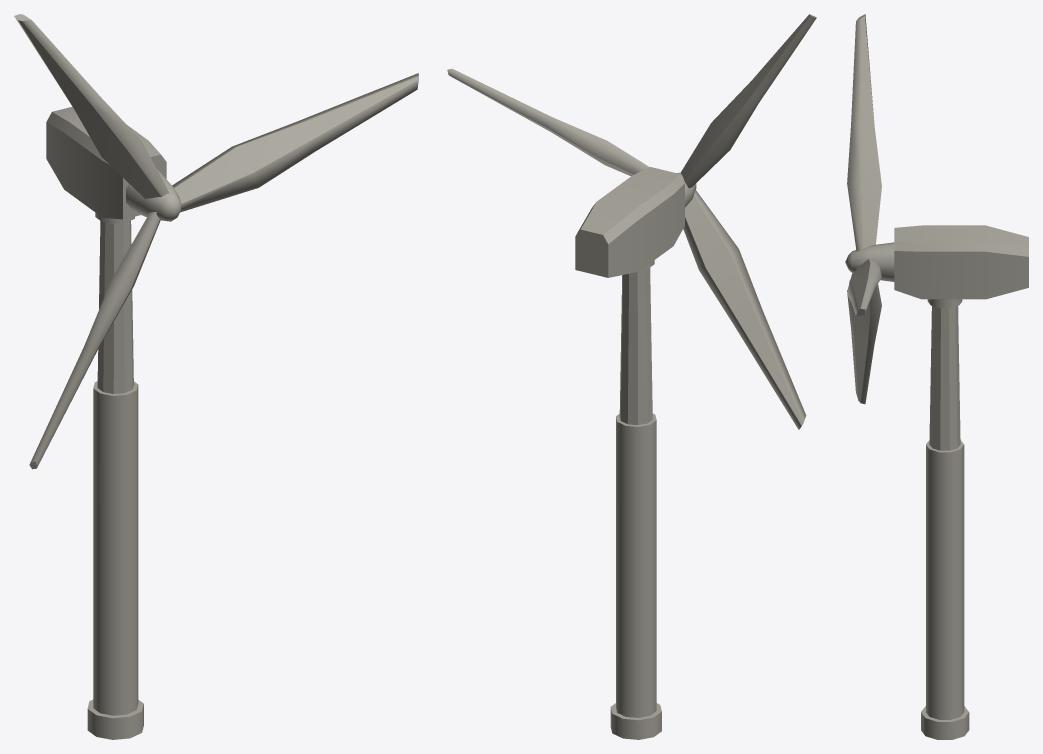
File: WindPower.fbx
3 renders of one model, left to right at view 1: azimuth 30°, elevation 25°; view 2: azimuth 150°, elevation 25°; view 3: azimuth 270°, elevation 25°, orthographic. The views are drawn at different scales.
Parts seen in each view (by area): view 1: WindPower, Spin; view 2: WindPower, Spin; view 3: WindPower, Spin.
Part boxes in pixels (bbox=[...]): WindPower: bbox=[46, 107, 166, 739]; Spin: bbox=[14, 14, 418, 469]; WindPower: bbox=[575, 167, 684, 739]; Spin: bbox=[447, 14, 816, 429]; WindPower: bbox=[894, 225, 1028, 739]; Spin: bbox=[845, 14, 894, 404].
Size of the model in its own units: 237 by 112 by 440.
